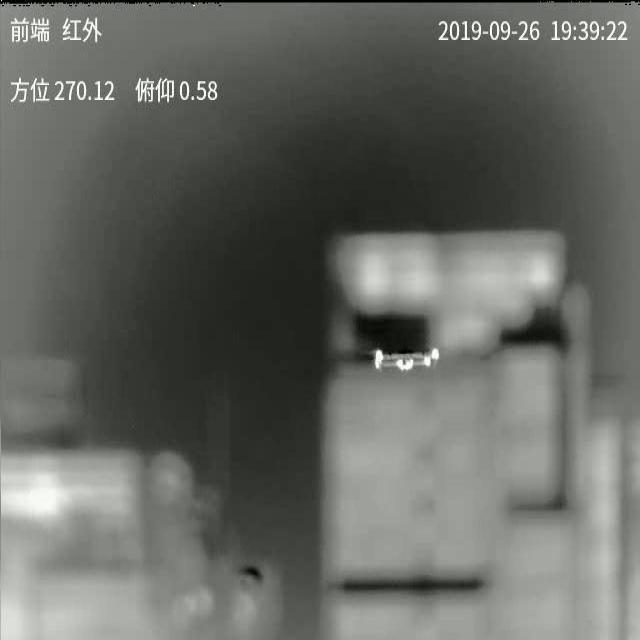drone: (368, 347, 441, 371)
